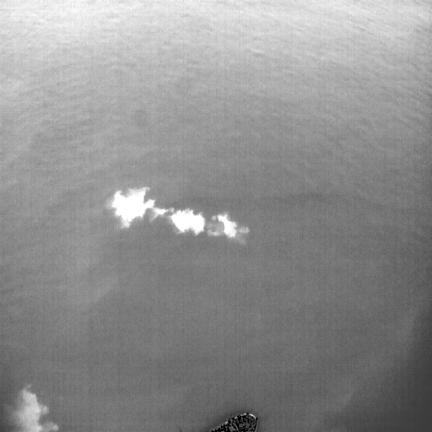flukeprints: (112, 187, 154, 226), (170, 209, 204, 234), (215, 214, 240, 237), (151, 206, 173, 218), (242, 227, 248, 231)
